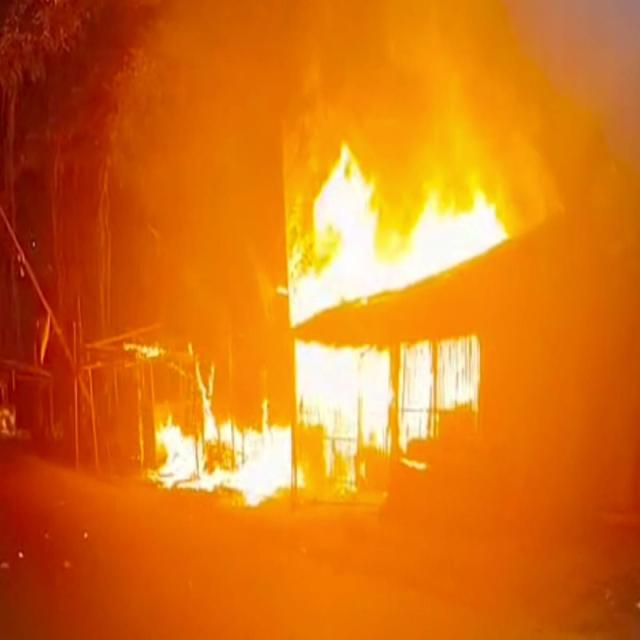fire: (289, 142, 509, 329), (297, 342, 393, 476), (398, 336, 479, 469), (206, 426, 302, 505), (147, 419, 204, 489), (193, 358, 216, 427)
